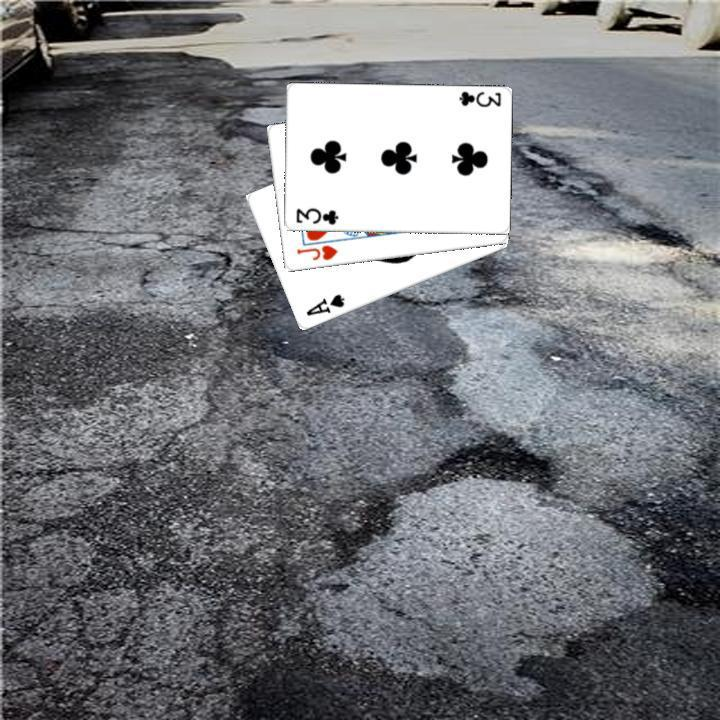3: (291, 204, 340, 227), (454, 87, 502, 110)
A: (301, 290, 346, 318)
J: (292, 241, 339, 263)
